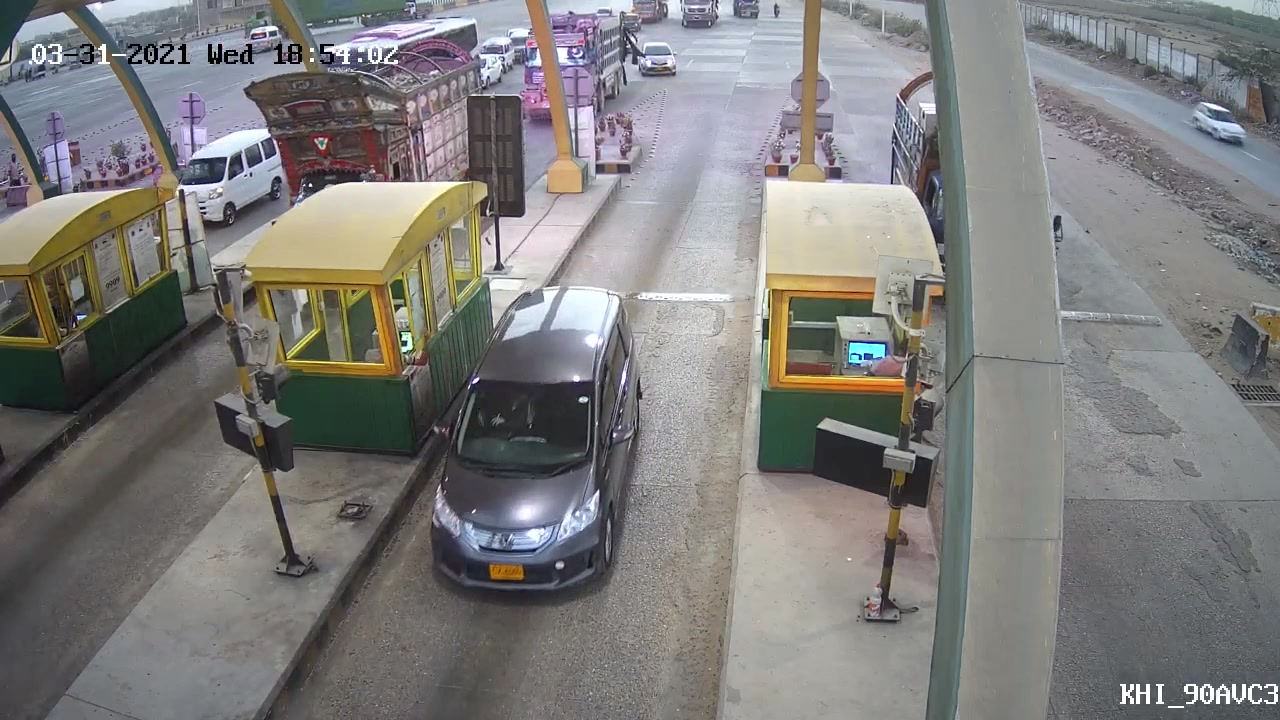F1: (420, 281, 650, 600)
